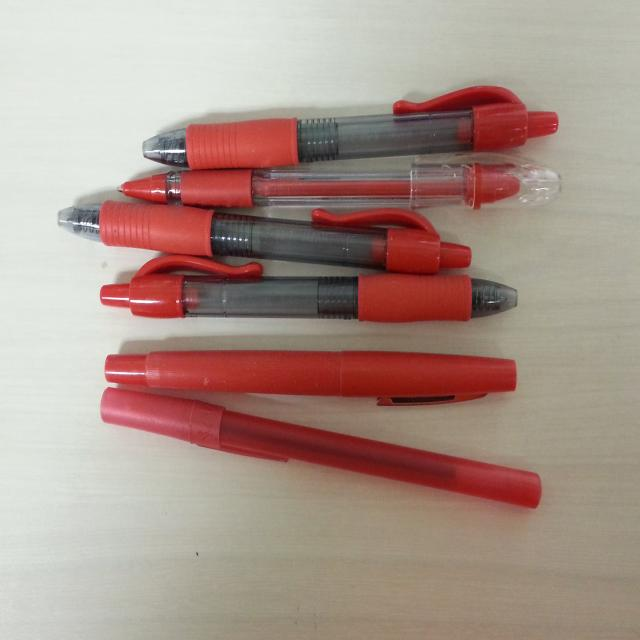Plastic: (30, 69, 602, 518)
